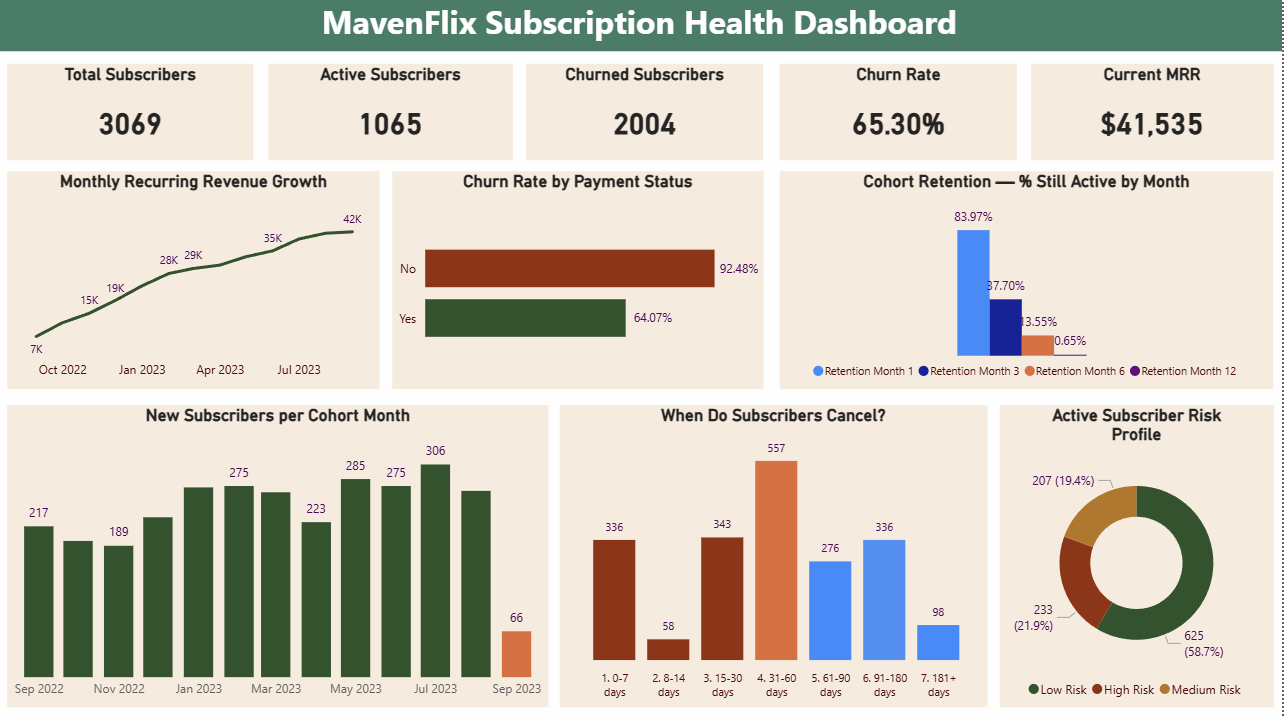

Layout of this report page (visuals, bound fields, positions):
{"tool":"powerbi","page":{"name":"Page 1","canvas":[1280,720],"ordinal":0},"visuals":[{"type":"card","title":"Total Subscribers","fields":{"Values":["CountNonNull(subscribers_clean.customer_id)"]},"box":[11.2,68.4,245.1,95.8],"z":0},{"type":"card","title":"Churn Rate","fields":{"Values":["subscribers_clean.Churn Rate"]},"box":[780,68.4,236.4,95.8],"z":1000},{"type":"card","title":"Active Subscribers","fields":{"Values":["subscribers_clean.Active Subscribers"]},"box":[271.7,68.6,242.9,96.1],"z":2000},{"type":"card","title":"Churned Subscribers","fields":{"Values":["subscribers_clean.Churned Subscribers"]},"box":[527.4,68.4,236.4,95.8],"z":3000},{"type":"card","title":"Current MRR","fields":{"Values":["mrr_monthly.Current MRR"]},"box":[1030,68.4,241.3,95.8],"z":4000},{"type":"textbox","box":[0,0,1280.3,56.3],"z":5000},{"type":"lineChart","title":"Monthly Recurring Revenue Growth","fields":{"Y":["Sum(mrr_monthly.mrr)"],"Category":["mrr_monthly.month.Variation.Date Hierarchy.Year","mrr_monthly.month.Variation.Date Hierarchy.Quarter","mrr_monthly.month.Variation.Date Hierarchy.Month","mrr_monthly.month.Variation.Date Hierarchy.Day"]},"box":[11.2,175.4,370.7,216.4],"z":6000},{"type":"clusteredBarChart","title":"Churn Rate by Payment Status","fields":{"Category":["subscribers_clean.was_subscription_paid"],"Y":["Avg(subscribers_clean.is_churned)"]},"box":[394.3,175.4,369.5,216.4],"z":7000},{"type":"clusteredColumnChart","title":"New Subscribers per Cohort Month","fields":{"Y":["CountNonNull(subscribers_clean.customer_id)"],"Category":["subscribers_clean.cohort_month.Variation.Date Hierarchy.Year"]},"box":[11.2,408,538.6,301],"z":8000},{"type":"clusteredColumnChart","title":"When Do Subscribers Cancel?","fields":{"Y":["CountNonNull(subscribers_clean.customer_id)"],"Category":["subscribers_clean.Churn Bucket"]},"box":[561,408,425.4,301],"z":9000},{"type":"clusteredColumnChart","title":"Cohort Retention — % Still Active by Month","fields":{"Y":["subscribers_clean.Retention Month 1","subscribers_clean.Retention Month 3","subscribers_clean.Retention Month 6","subscribers_clean.Retention Month 12"]},"box":[780,175.4,491.4,216.4],"z":10000},{"type":"donutChart","title":"Active Subscriber Risk Profile ","fields":{"Category":["churn_risk_scores.risk_tier"],"Y":["CountNonNull(churn_risk_scores.customer_id)"]},"box":[998.9,408,272.4,301],"z":11000}]}

Visuals, with their boxes in screenshot pixels (x1, y1, x2, y2), scaled from the page's 1280x720 canvas onto the 1284x716 screenshot:
"Total Subscribers" card: box(11, 68, 257, 163)
"Churn Rate" card: box(782, 68, 1020, 163)
"Active Subscribers" card: box(273, 68, 516, 164)
"Churned Subscribers" card: box(529, 68, 766, 163)
"Current MRR" card: box(1033, 68, 1275, 163)
textbox: box(0, 0, 1283, 56)
"Monthly Recurring Revenue Growth" lineChart: box(11, 174, 383, 390)
"Churn Rate by Payment Status" clusteredBarChart: box(396, 174, 766, 390)
"New Subscribers per Cohort Month" clusteredColumnChart: box(11, 406, 552, 705)
"When Do Subscribers Cancel?" clusteredColumnChart: box(563, 406, 989, 705)
"Cohort Retention — % Still Active by Month" clusteredColumnChart: box(782, 174, 1275, 390)
"Active Subscriber Risk Profile " donutChart: box(1002, 406, 1275, 705)
